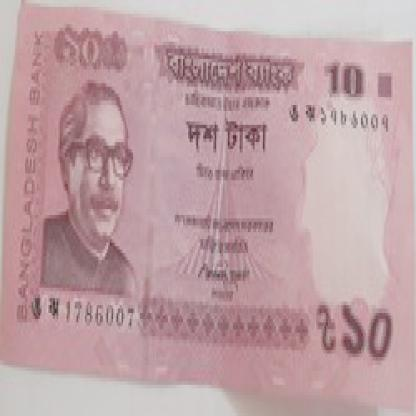one hundred taka: (339, 284, 396, 385), (321, 45, 373, 108), (58, 21, 115, 76)
